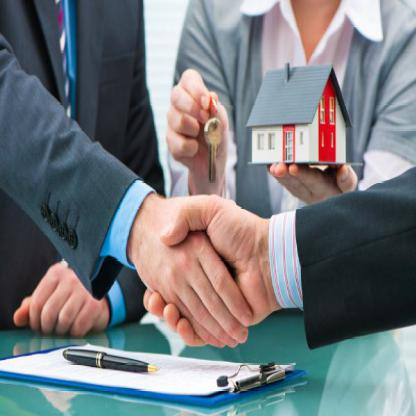keys: (202, 112, 223, 185)
